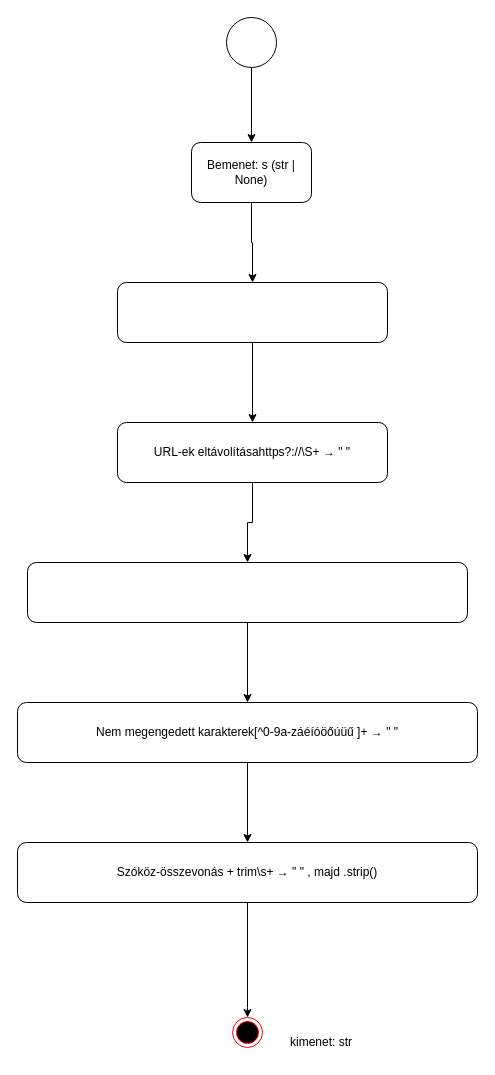
Some shapes in this 495 by 1075 pixel diagram are drawn without their labels. Here are the shapes that lost their labels. From the top down, the centre of each, then its label:
pixel 252 312: NFC-normalizálás + kisbetűsítésunicodedata.normalize + .lower()
pixel 247 592: Zajszavak eltávolítása_ZAJ (kapcsolódó cikk, hirdetés, …)→ " "
